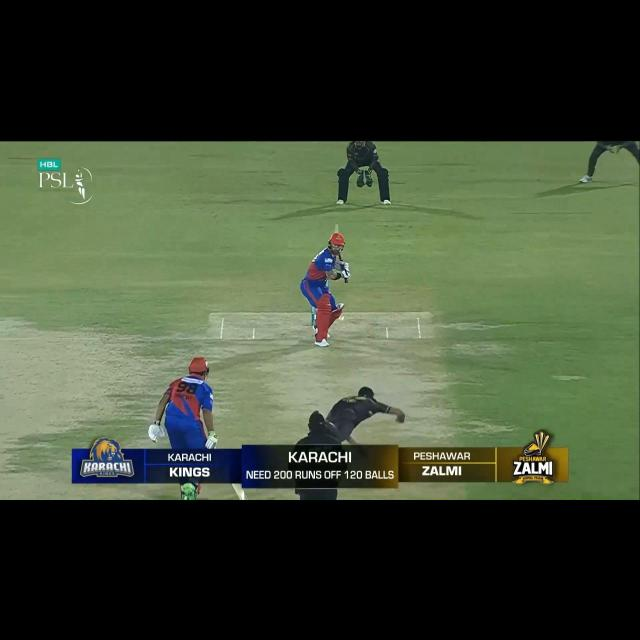toe: (231, 484, 246, 499), (331, 222, 343, 233)
